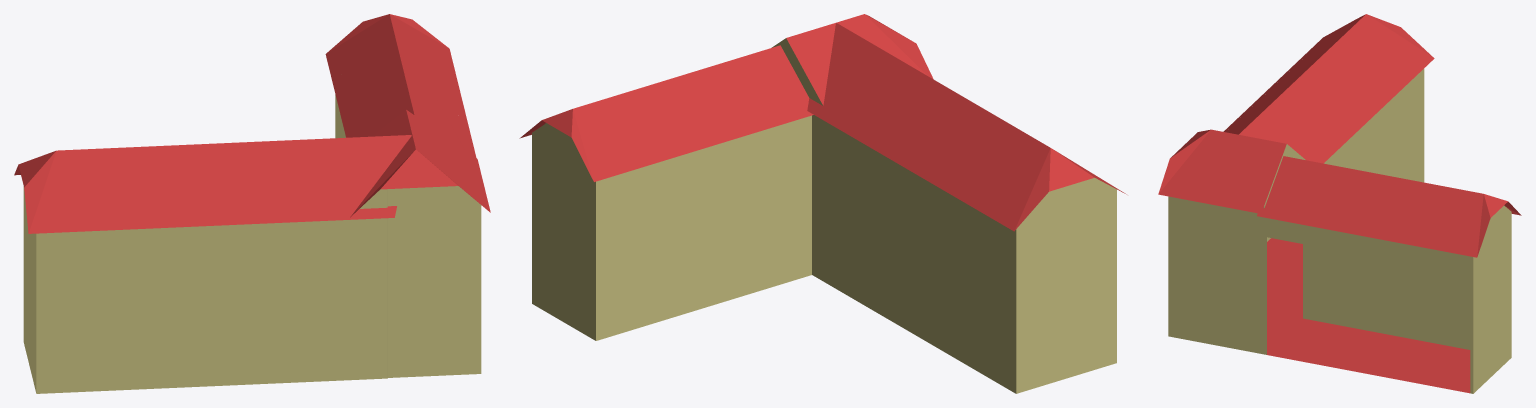
3 renders of one model, left to right at view 1: azimuth 30°, elevation 25°; view 2: azimuth 150°, elevation 25°; view 3: azimuth 270°, elevation 25°, orthographic. The views are drawn at different scales.
Visible parts, largest first — view 1: group_6, group_3, group_14, group_8, group_12, group_5; view 2: group_6, group_10, group_3, group_8, group_12, group_5, group_14; view 3: group_10, group_8, group_3, group_14, group_11, group_12, group_6, group_7, group_5, group_9, group_13.
Boxes of the visible parts, x1=… form: group_6: x1=23, y1=186, x2=397, y2=393; group_3: x1=14, y1=135, x2=411, y2=233; group_14: x1=359, y1=186, x2=481, y2=377; group_8: x1=325, y1=14, x2=475, y2=157; group_12: x1=350, y1=109, x2=490, y2=217; group_5: x1=17, y1=162, x2=393, y2=232; group_6: x1=804, y1=115, x2=1116, y2=393; group_10: x1=532, y1=118, x2=804, y2=340; group_3: x1=808, y1=23, x2=1126, y2=231; group_8: x1=519, y1=45, x2=813, y2=181; group_12: x1=786, y1=14, x2=933, y2=105; group_5: x1=807, y1=101, x2=1114, y2=230; group_14: x1=771, y1=38, x2=822, y2=105; group_10: x1=1260, y1=205, x2=1511, y2=393; group_8: x1=1257, y1=156, x2=1521, y2=257; group_3: x1=1223, y1=14, x2=1434, y2=161; group_14: x1=1168, y1=144, x2=1305, y2=353; group_11: x1=1267, y1=320, x2=1470, y2=393; group_12: x1=1158, y1=129, x2=1286, y2=213; group_6: x1=1267, y1=68, x2=1424, y2=319; group_7: x1=1267, y1=238, x2=1309, y2=326; group_5: x1=1224, y1=25, x2=1433, y2=163; group_9: x1=1257, y1=199, x2=1520, y2=255; group_13: x1=1159, y1=134, x2=1263, y2=210.
Bounding box in the file's own units: 49.8 × 35.2 × 20.25.
